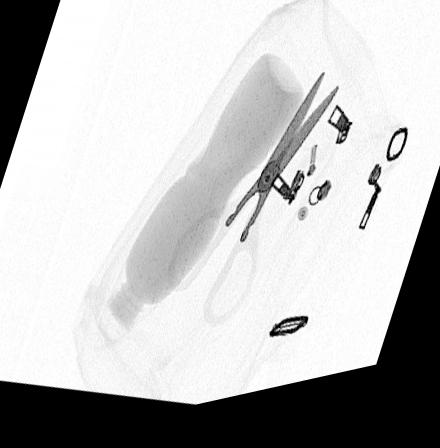Scissors: (168, 87, 341, 337)
